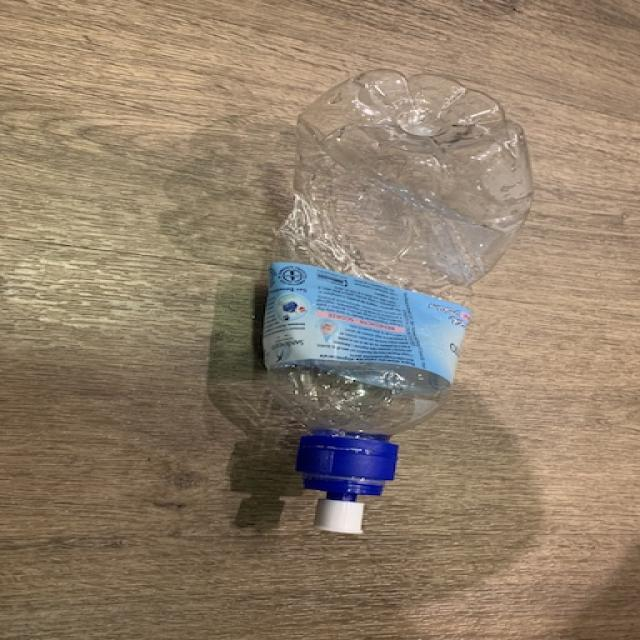litter: (250, 69, 533, 550)
